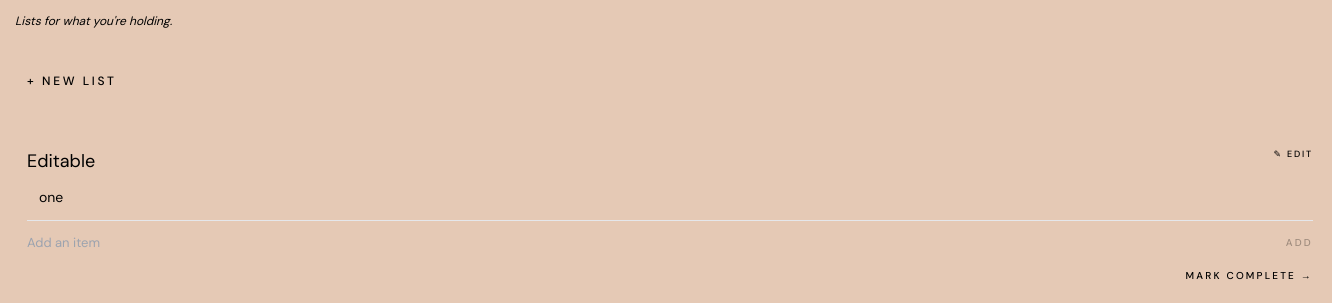
Test: ThoughtsTab › edit mode reveals Delete list and per-item × buttons
The width and height of the screenshot is (1332, 303).
Click the button "✎ Edit" at (1293, 154), box [1274,148,1313,161]
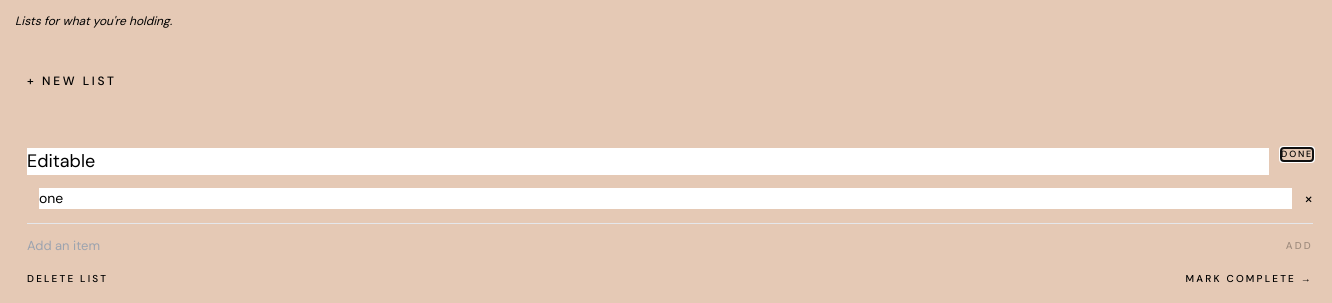
Result: the button "Delete list" is shown at [27,271,108,286]
Result: the button named "Delete item" is shown at [1304,186,1313,210]
